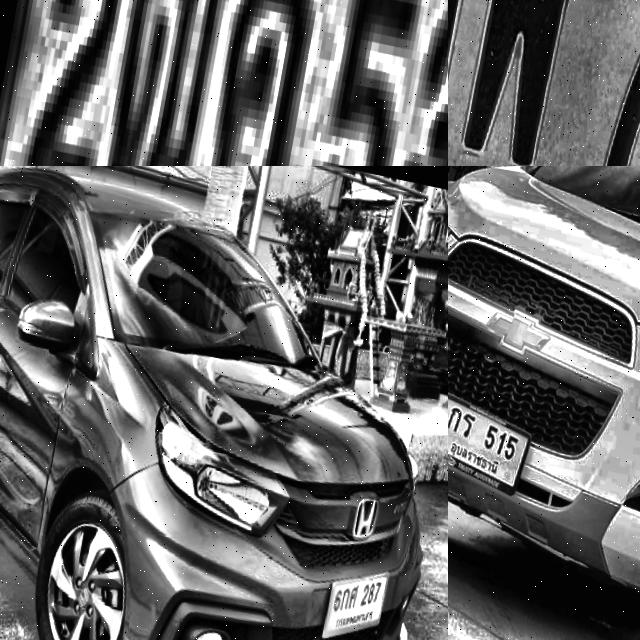license-plate: (0, 0, 448, 166), (448, 0, 640, 166), (448, 382, 538, 498), (319, 551, 393, 640)
